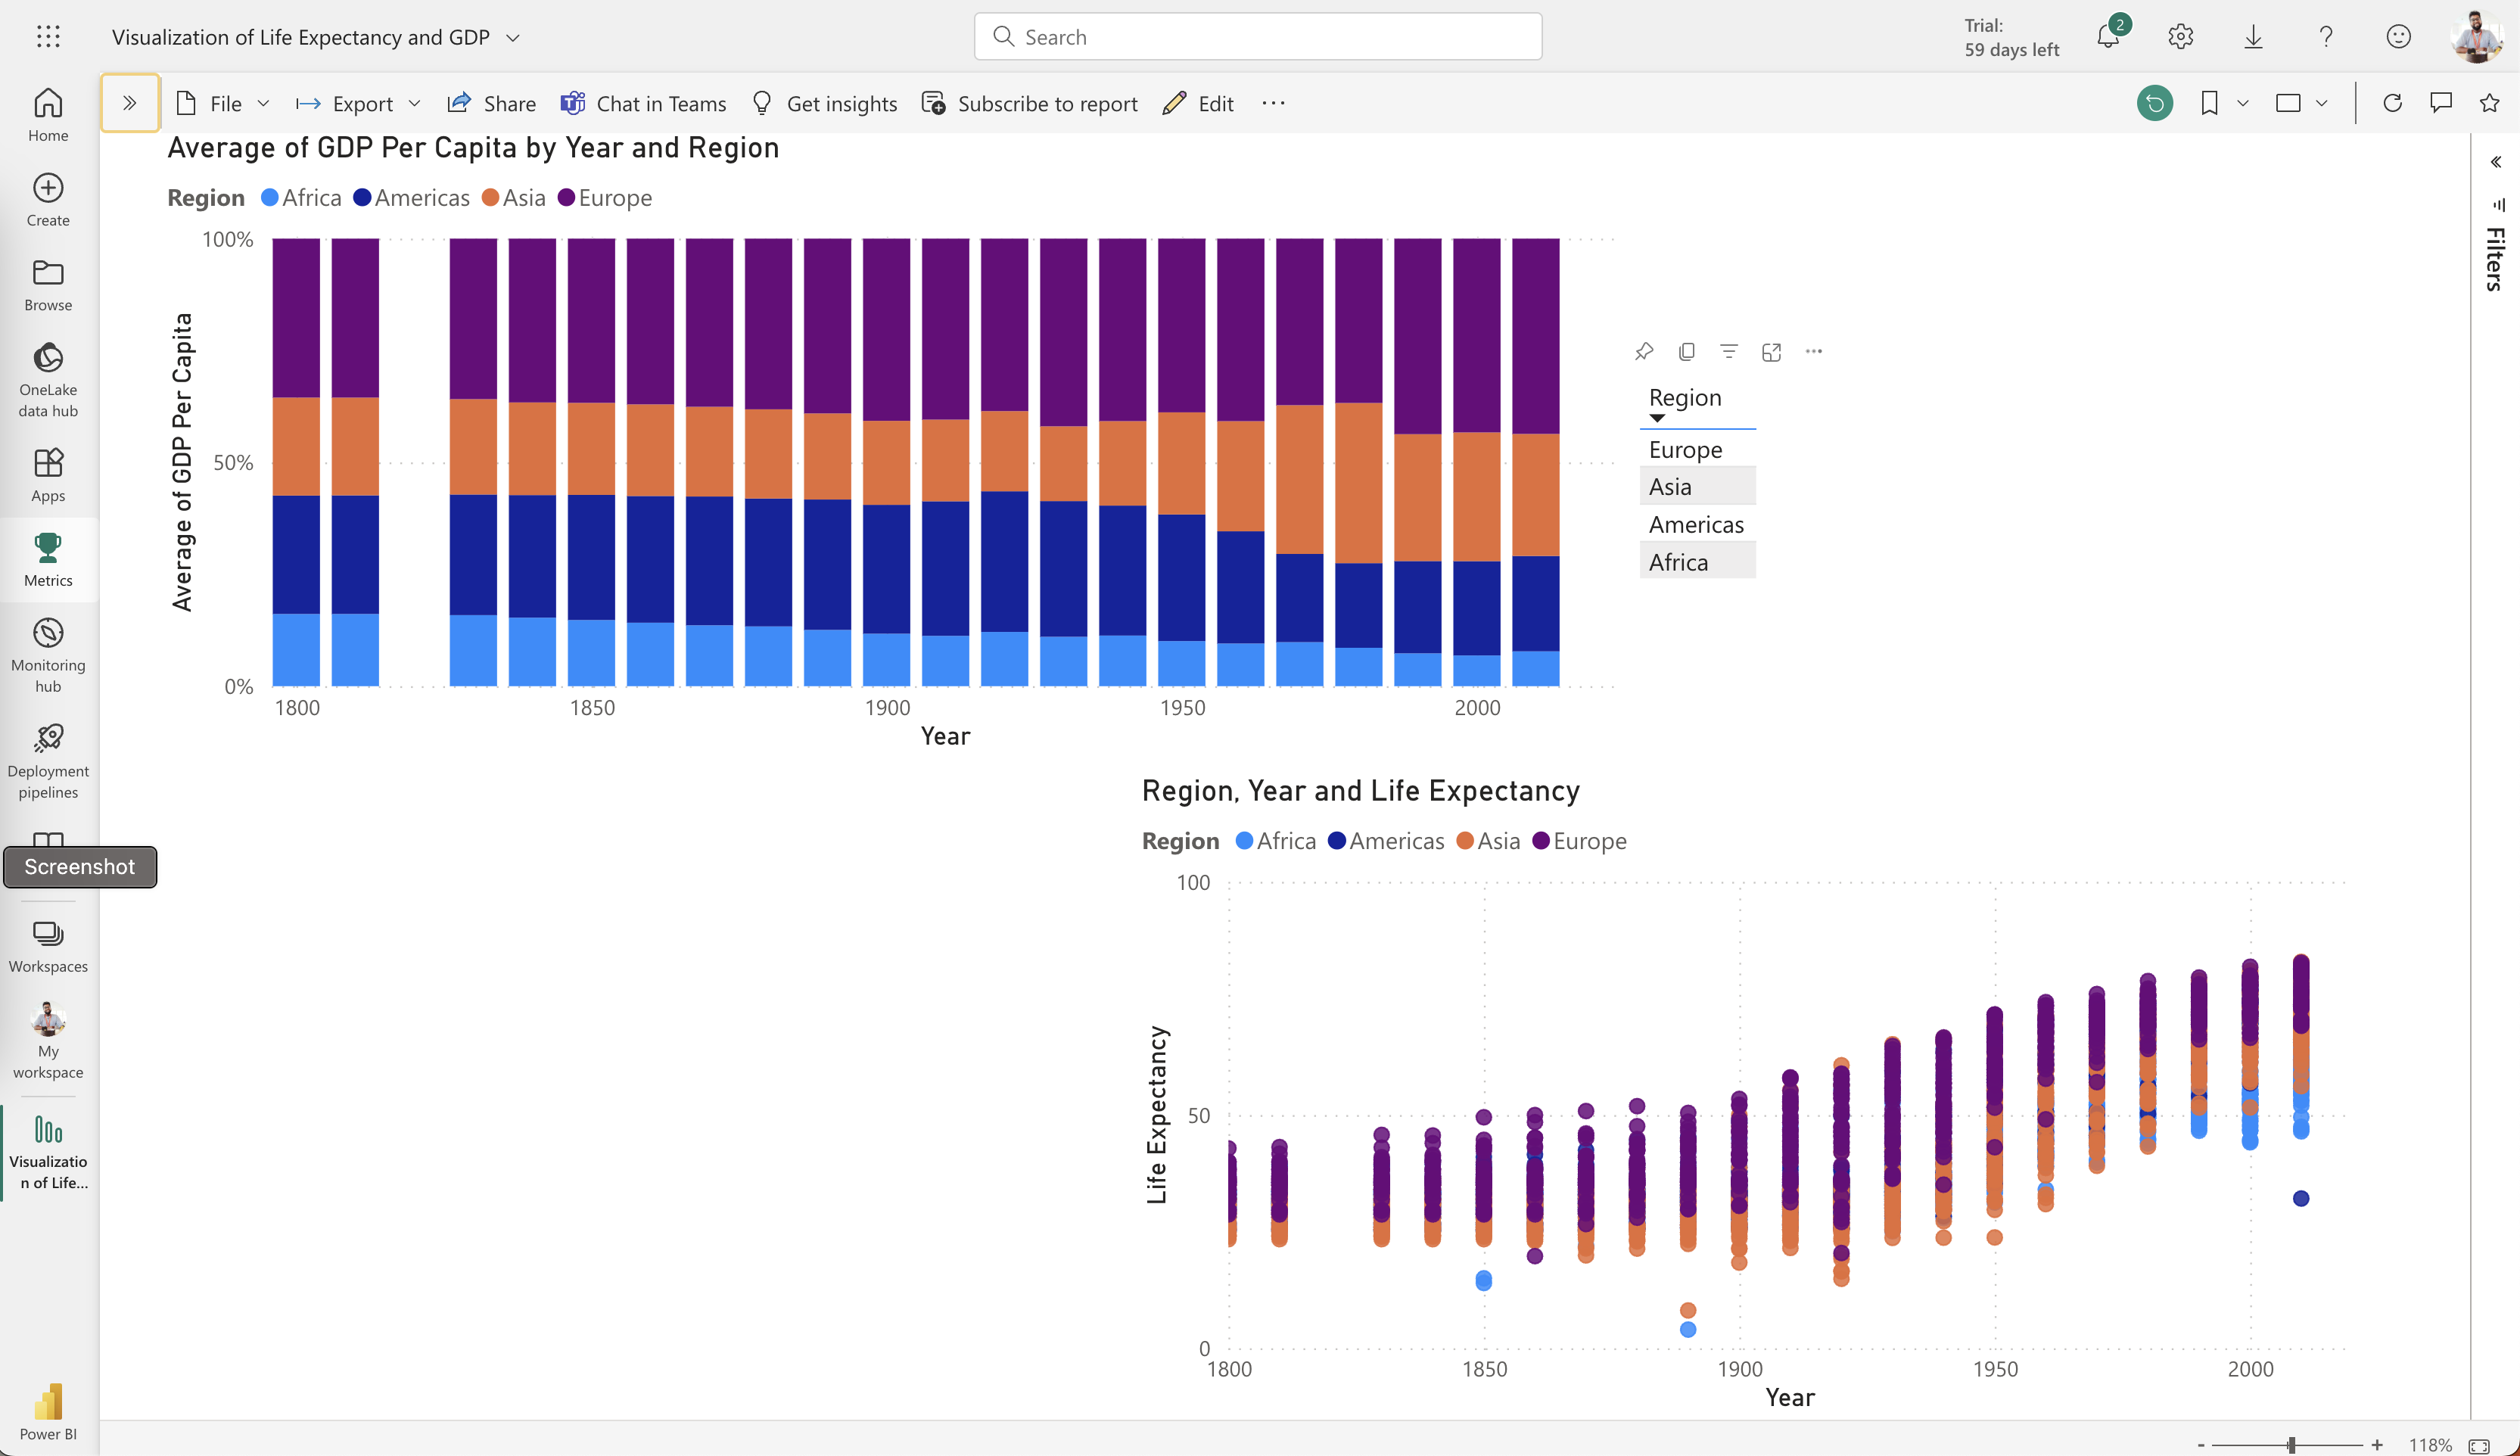

What the dashboard file says about the page in this screenshot:
{"tool":"powerbi","page":{"name":"Duplicate of Page 2","canvas":[1280,720],"ordinal":3},"visuals":[{"type":"hundredPercentStackedColumnChart","fields":{"Category":["Table.Year"],"Y":["Avg(Table.GDP Per Capita)"],"Series":["Table.Region"]},"box":[0,0,805.7,373],"z":0},{"type":"scatterChart","fields":{"Series":["Table.Region"],"Y":["Table.Life Expectancy"],"X":["Table.Year"]},"box":[554.8,359.8,700.6,360.7],"z":1000}]}

Visuals, with their boxes on the page's 1280x720 design canvas (x1, y1, x2, y2). These are canvas units, not pixel positions in the 2520x1456 screenshot, which may show the page scaled, cropped or inside an application window:
hundredPercentStackedColumnChart - Table.Year x Avg(Table.GDP Per Capita): left=0, top=0, right=806, bottom=373
scatterChart - Table.Region x Table.Life Expectancy: left=555, top=360, right=1255, bottom=720
